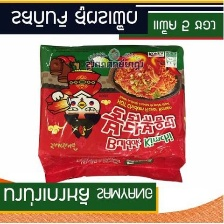snack: (30, 39, 193, 190)
